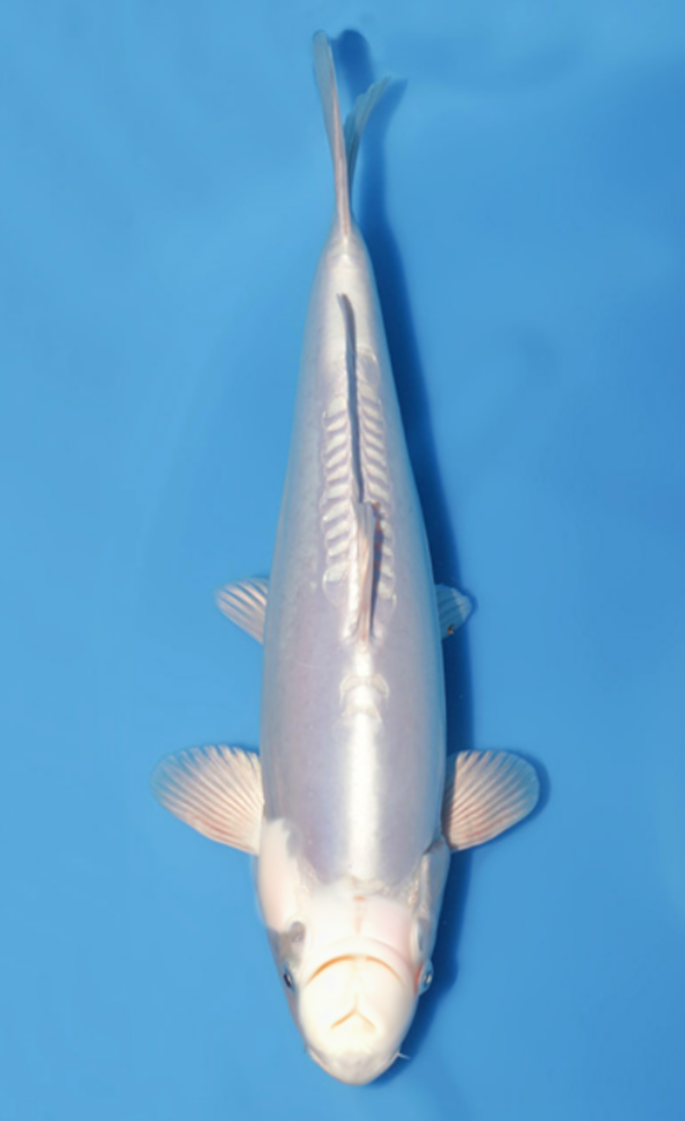white: (161, 28, 539, 1087)
